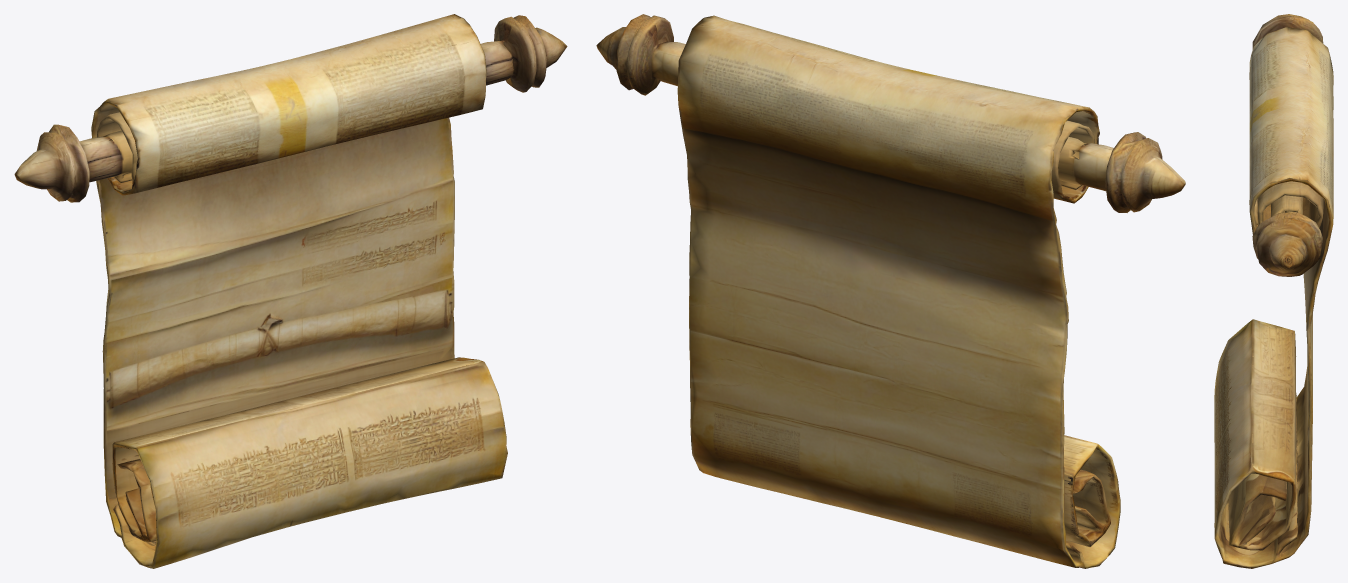
File: papyrus_scroll.glb
3 views of the same model, side by side, from view 1: azimuth 30°, elevation 25°; view 2: azimuth 150°, elevation 25°; view 3: azimuth 270°, elevation 25° (orthographic). The views are drawn at different scales.
Size of the model in its own units: 2.02 by 1.56 by 0.4263.
1 material, 1 textured.
